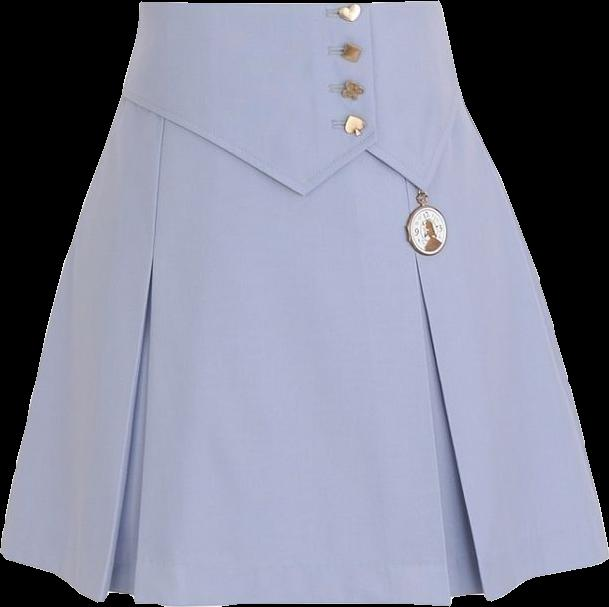Hemline: (122, 94, 465, 206), (0, 547, 608, 606)
Waistline: (139, 0, 441, 8)
